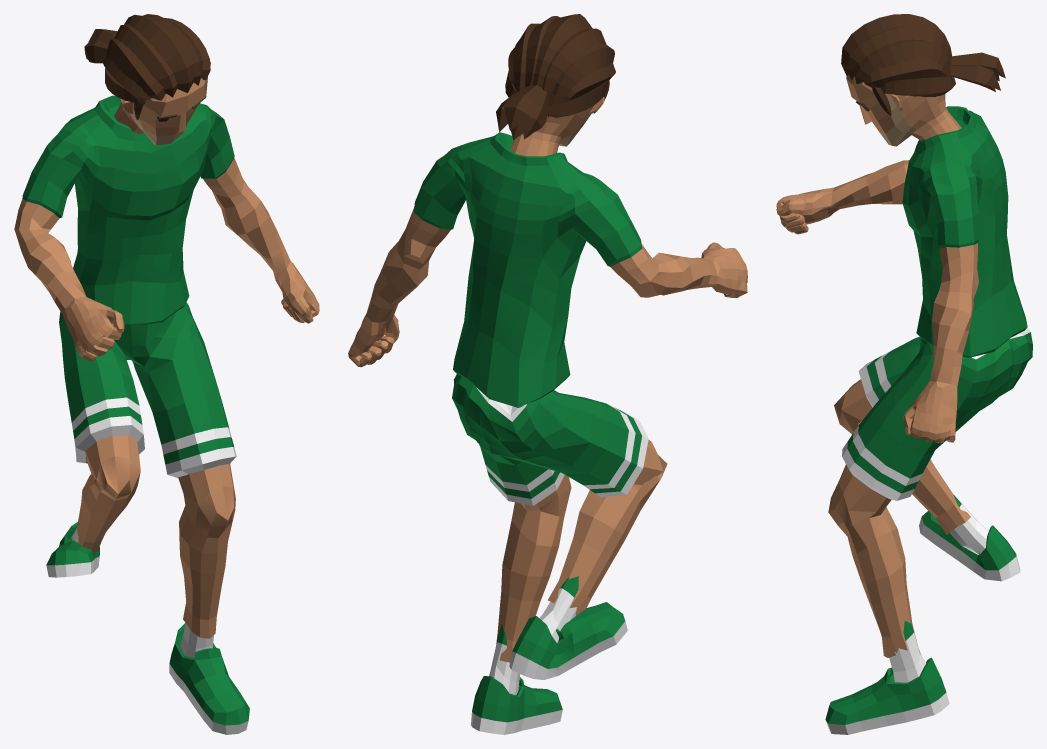
Rendered from av-boleiro-varzea.glb.
3 renders of one model, left to right at view 1: azimuth 30°, elevation 25°; view 2: azimuth 150°, elevation 25°; view 3: azimuth 270°, elevation 25°, orthographic. The views are drawn at different scales.
Visible parts, largest first — view 1: Beach_Legs; view 2: Beach_Legs; view 3: Beach_Legs.
Part boxes in pixels (x1=…): Beach_Legs: x1=14, y1=14, x2=319, y2=734; Beach_Legs: x1=348, y1=14, x2=747, y2=734; Beach_Legs: x1=776, y1=14, x2=1032, y2=734.
Bounding box in the file's own units: 0.7979 × 1.75 × 0.5914.
